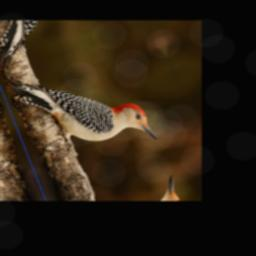Woodpecker: (1, 36, 158, 181)
